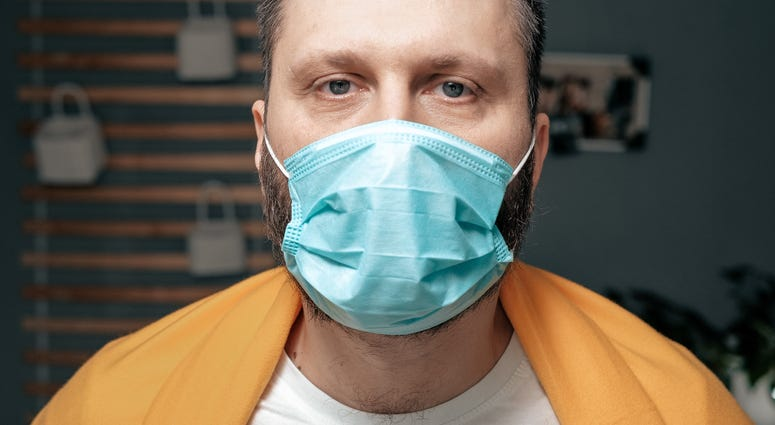surgical: (269, 118, 517, 336)
